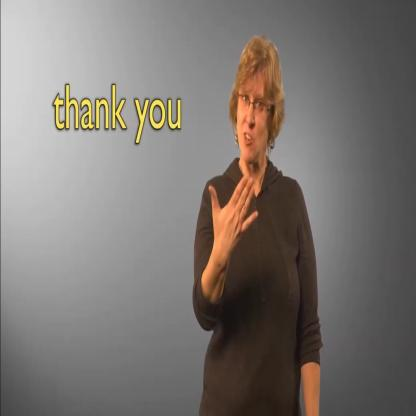ThankYou: (208, 37, 294, 285)
